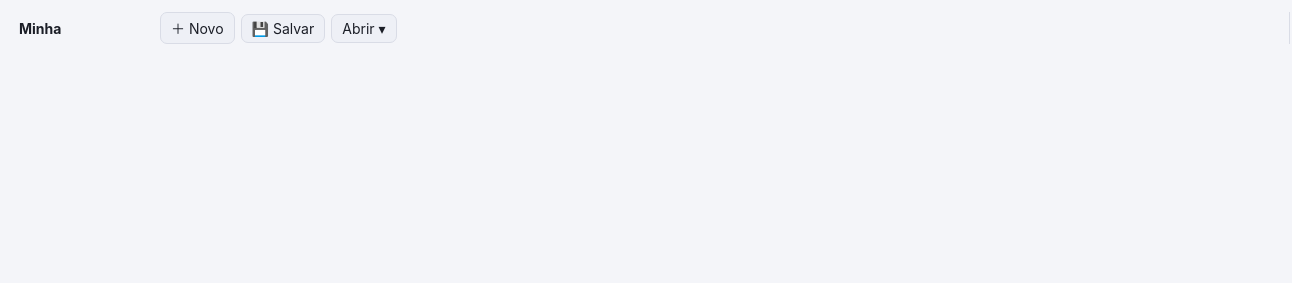
Test case: FileMenu › menu Abrir usa lista simples, sem botão dentro de role=option
The width and height of the screenshot is (1292, 283).
Click the button "Abrir ▾" at (364, 28), box [331,14,397,42]
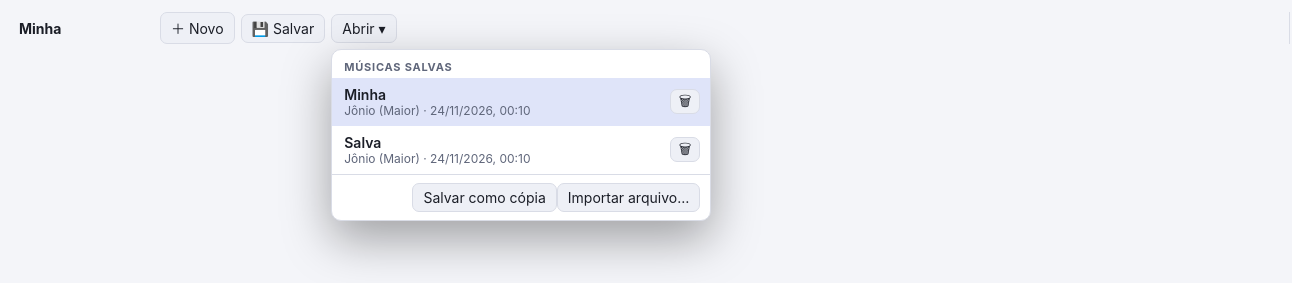
Expected: the list item "Minha Jônio (Maior) · 24/11/2026, 00:10 🗑" is shown, [332,78,710,126]
